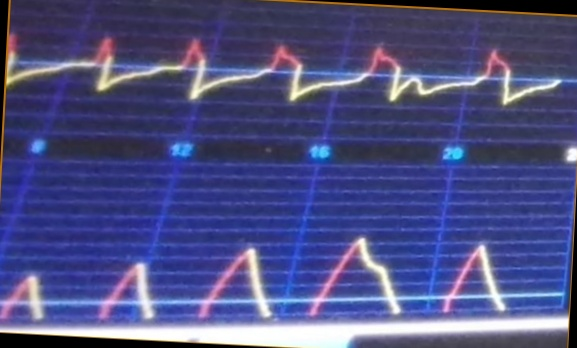Premature_cycling Flow: (8, 26, 560, 129)
Premature_cycling Volume: (1, 226, 514, 318)
